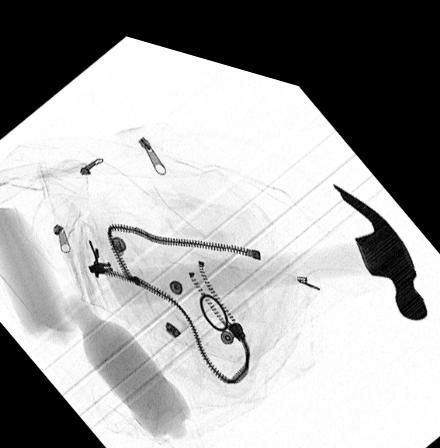Hammer: (104, 163, 429, 300)
